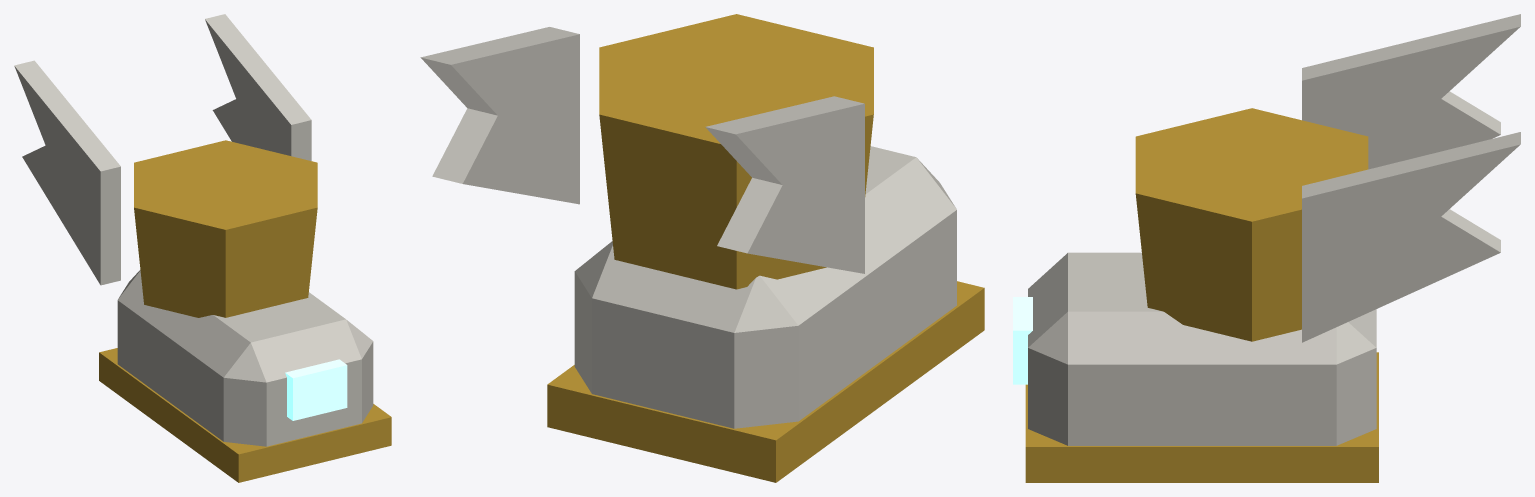
File: worldwalker_boots.glb
3 renders of one model, left to right at view 1: azimuth 30°, elevation 25°; view 2: azimuth 150°, elevation 25°; view 3: azimuth 270°, elevation 25°, orthographic. The views are drawn at different scales.
Parts seen in each view (by area): view 1: worldwalker_boots; view 2: worldwalker_boots; view 3: worldwalker_boots.
Boxes of the visible parts, x1=… form: worldwalker_boots: x1=14, y1=14, x2=391, y2=482; worldwalker_boots: x1=420, y1=14, x2=984, y2=482; worldwalker_boots: x1=1013, y1=14, x2=1520, y2=482.
Bounding box in the file's own units: 0.31 × 0.395 × 0.51.
